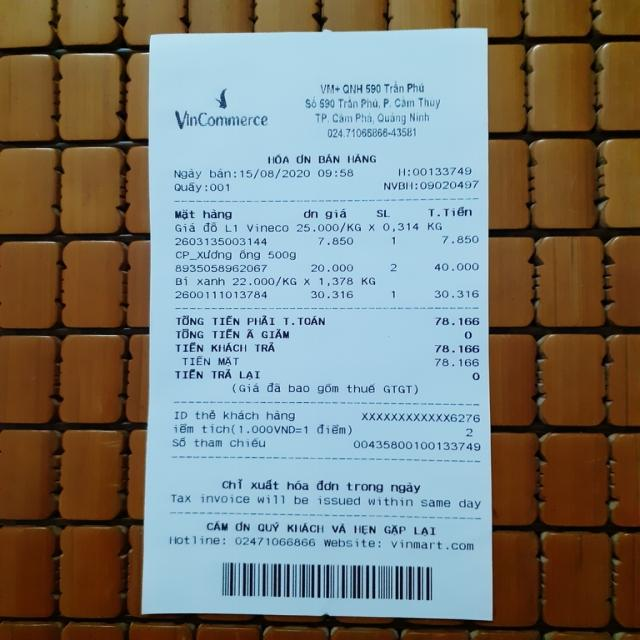Date: (240, 167, 313, 179)
Store_Name: (166, 105, 274, 131)
amount_number: (432, 313, 485, 328)
label_total: (174, 313, 330, 330)
